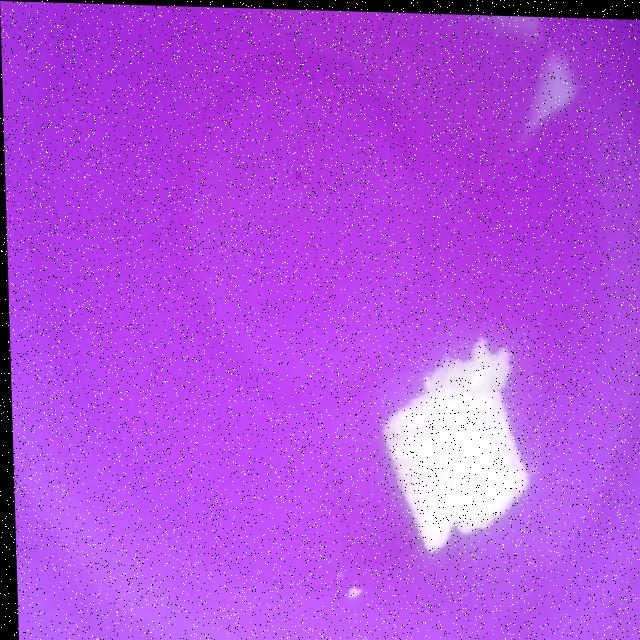litter: (338, 318, 544, 600)
